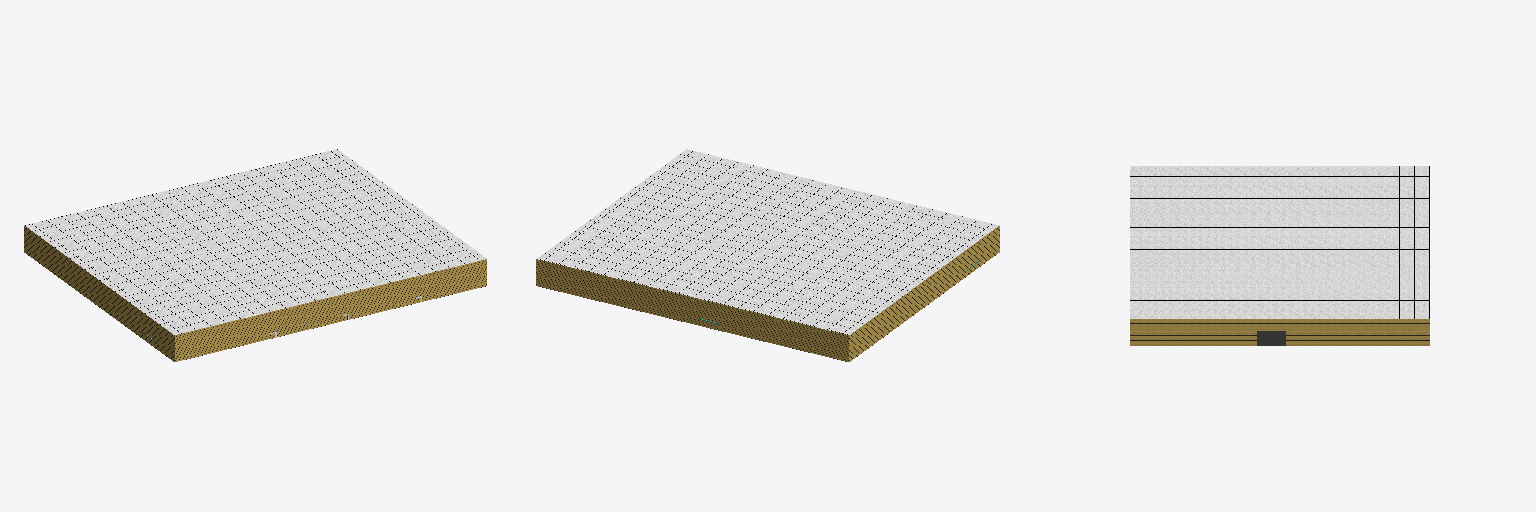
3 views of the same model, side by side, from view 1: azimuth 30°, elevation 25°; view 2: azimuth 150°, elevation 25°; view 3: azimuth 270°, elevation 25° (orthographic).
Visible parts, largest first — view 1: Cube.002_Cube.005; view 2: Cube.002_Cube.005; view 3: Cube.002_Cube.005.
Part boxes in pixels (x1,y1,x2,y2): Cube.002_Cube.005: (24,149,486,361); Cube.002_Cube.005: (536,149,999,361); Cube.002_Cube.005: (1130,166,1429,345).
Size of the model in its own units: 48.19 by 4.13 by 40.08.
Materials: 29 (13 with a texture image).